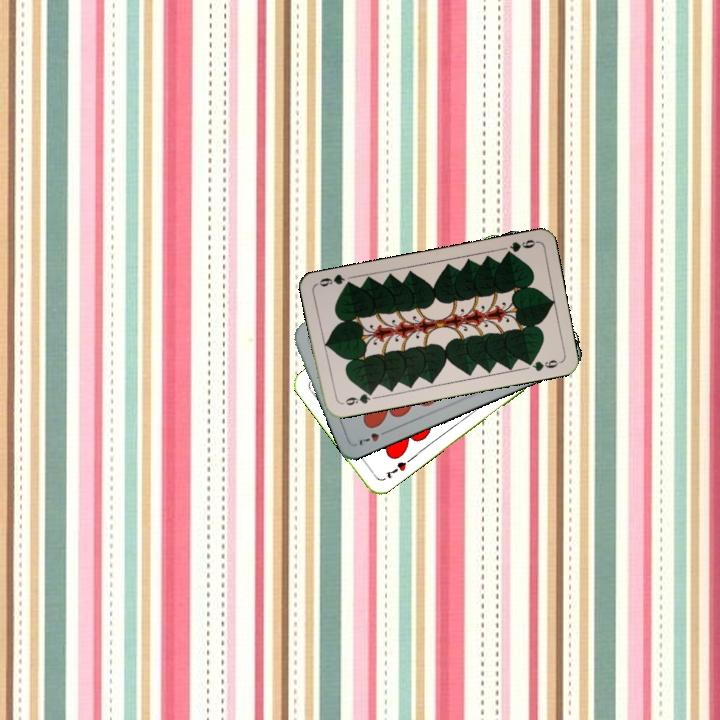G9: (500, 235, 539, 259), (336, 387, 376, 408)
H7: (354, 426, 392, 448), (381, 457, 409, 481)
